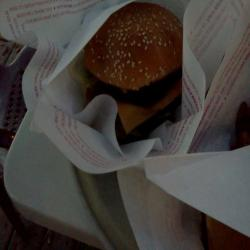burger: (73, 1, 194, 147)
